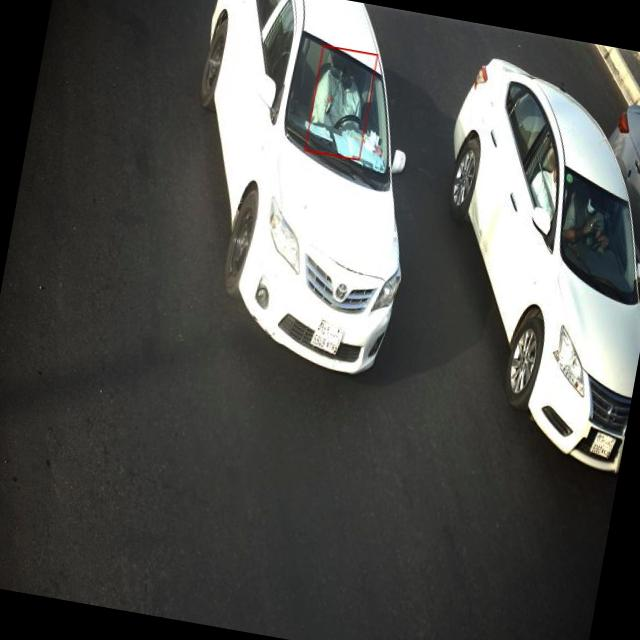person_without_seatbelt: (305, 45, 376, 144)
